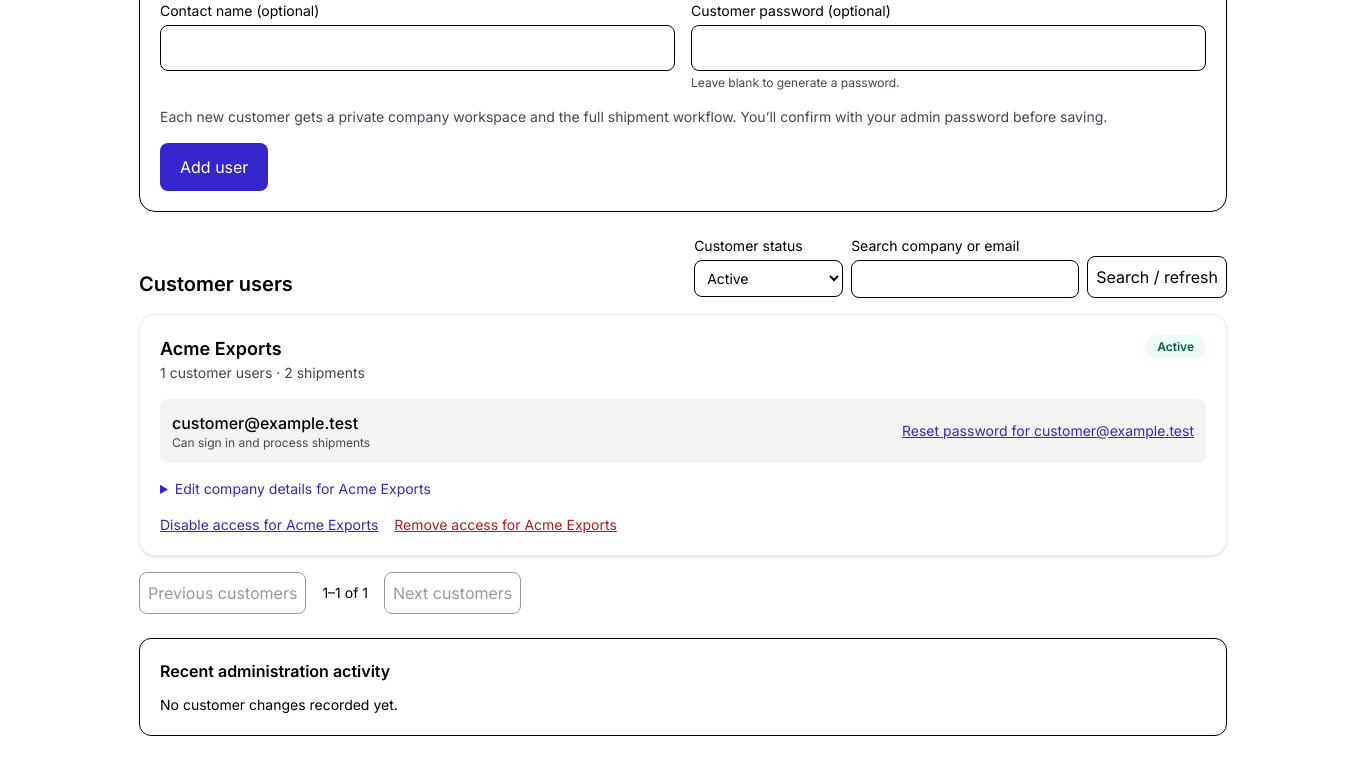
ClearanceX operator dashboard › shows stale failures and clears the admin confirmation password
(page scrolled)
expect the text "customer@example.test" is shown: met, box [172, 411, 370, 435]
Click the button "Reset password for customer@example.test" at (1048, 431), box [902, 411, 1194, 451]
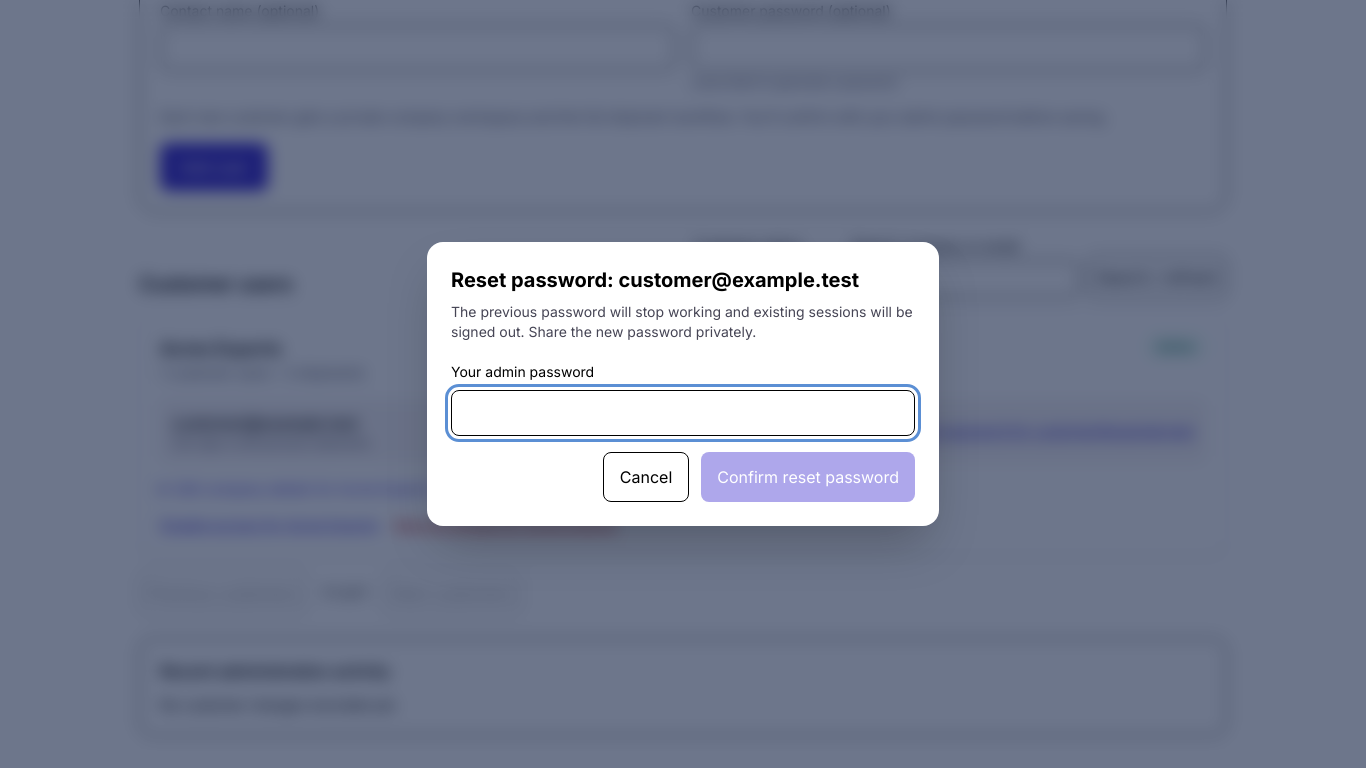
Type "operator-confirmation" into the password field labelled "Your admin password" at (683, 413), box [451, 390, 915, 436]
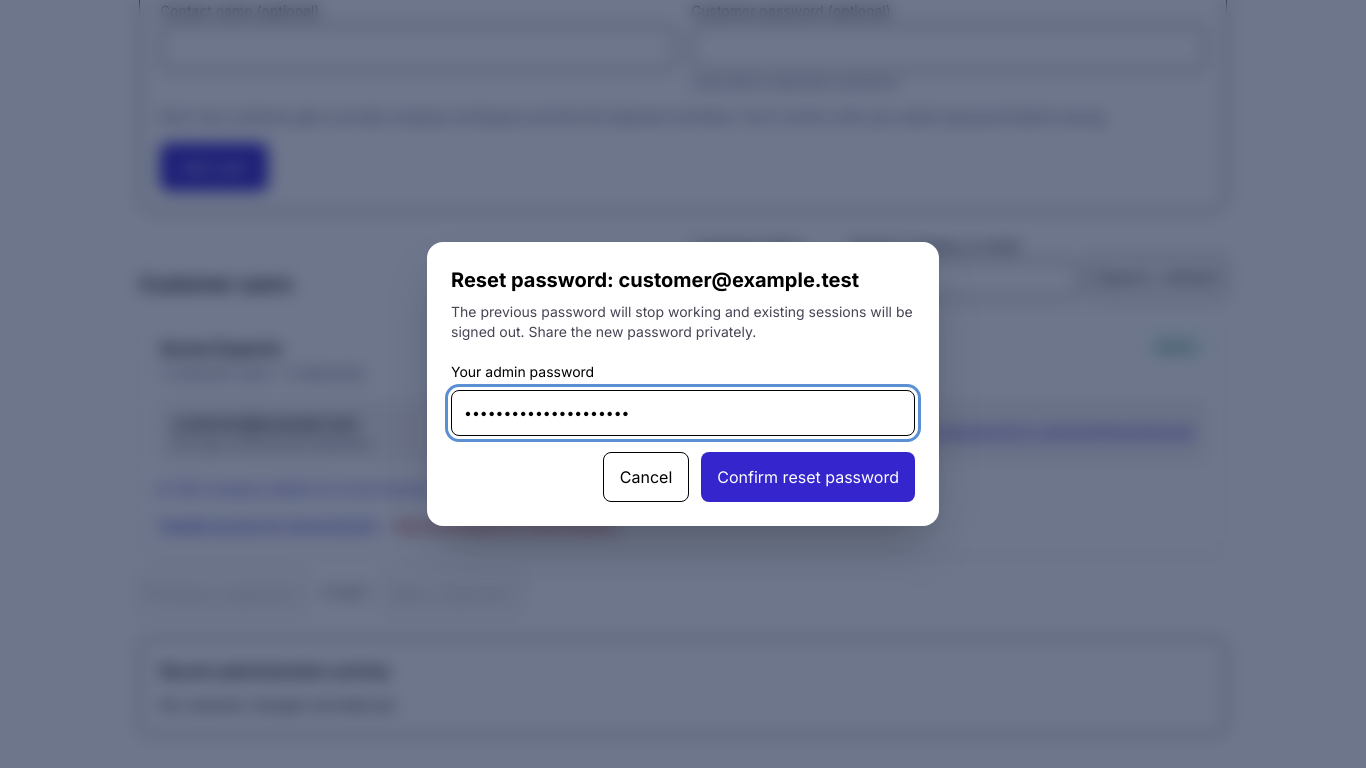
Click the button "Confirm reset password" at (808, 477), box [701, 452, 915, 502]
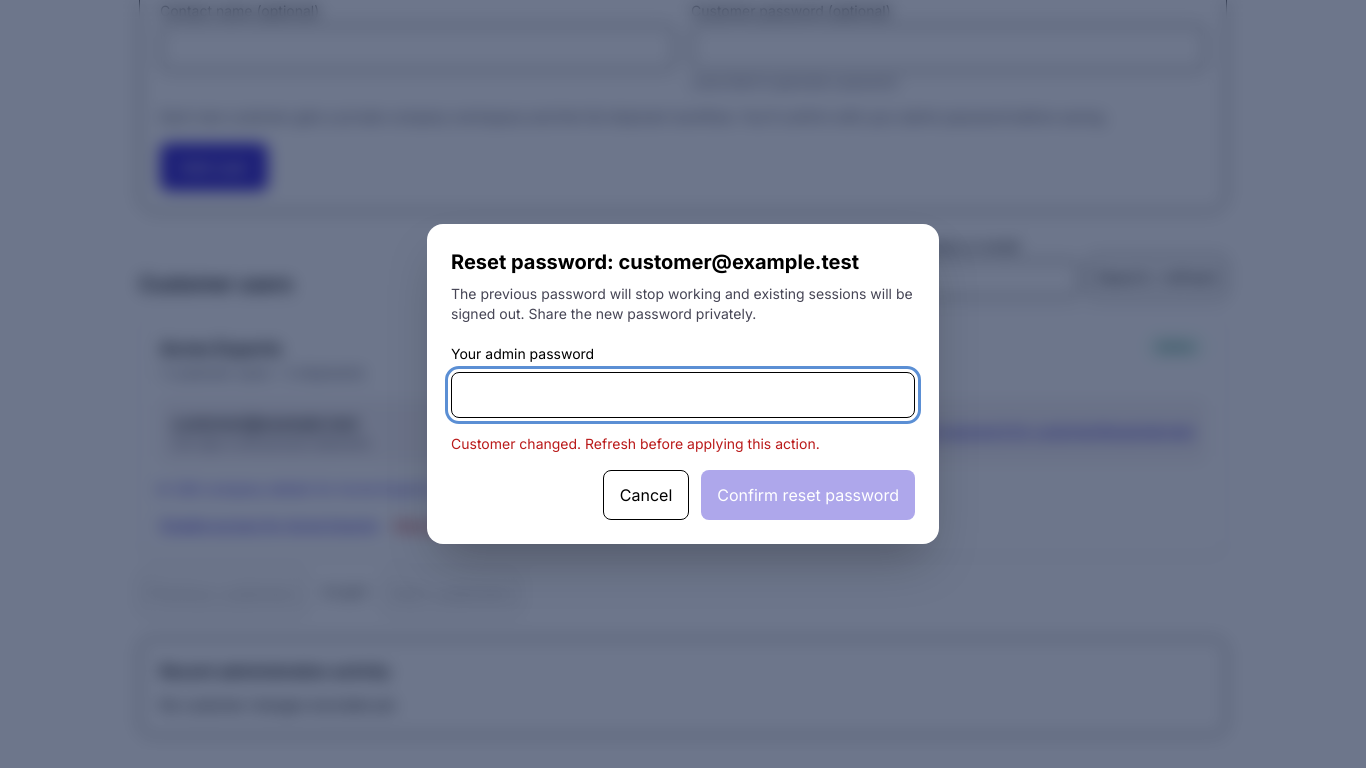
expect the message shows "Customer changed. Refresh": met, box [451, 435, 820, 452]
expect the password field labelled "Your admin password" is empty: met, box [451, 372, 915, 418]
